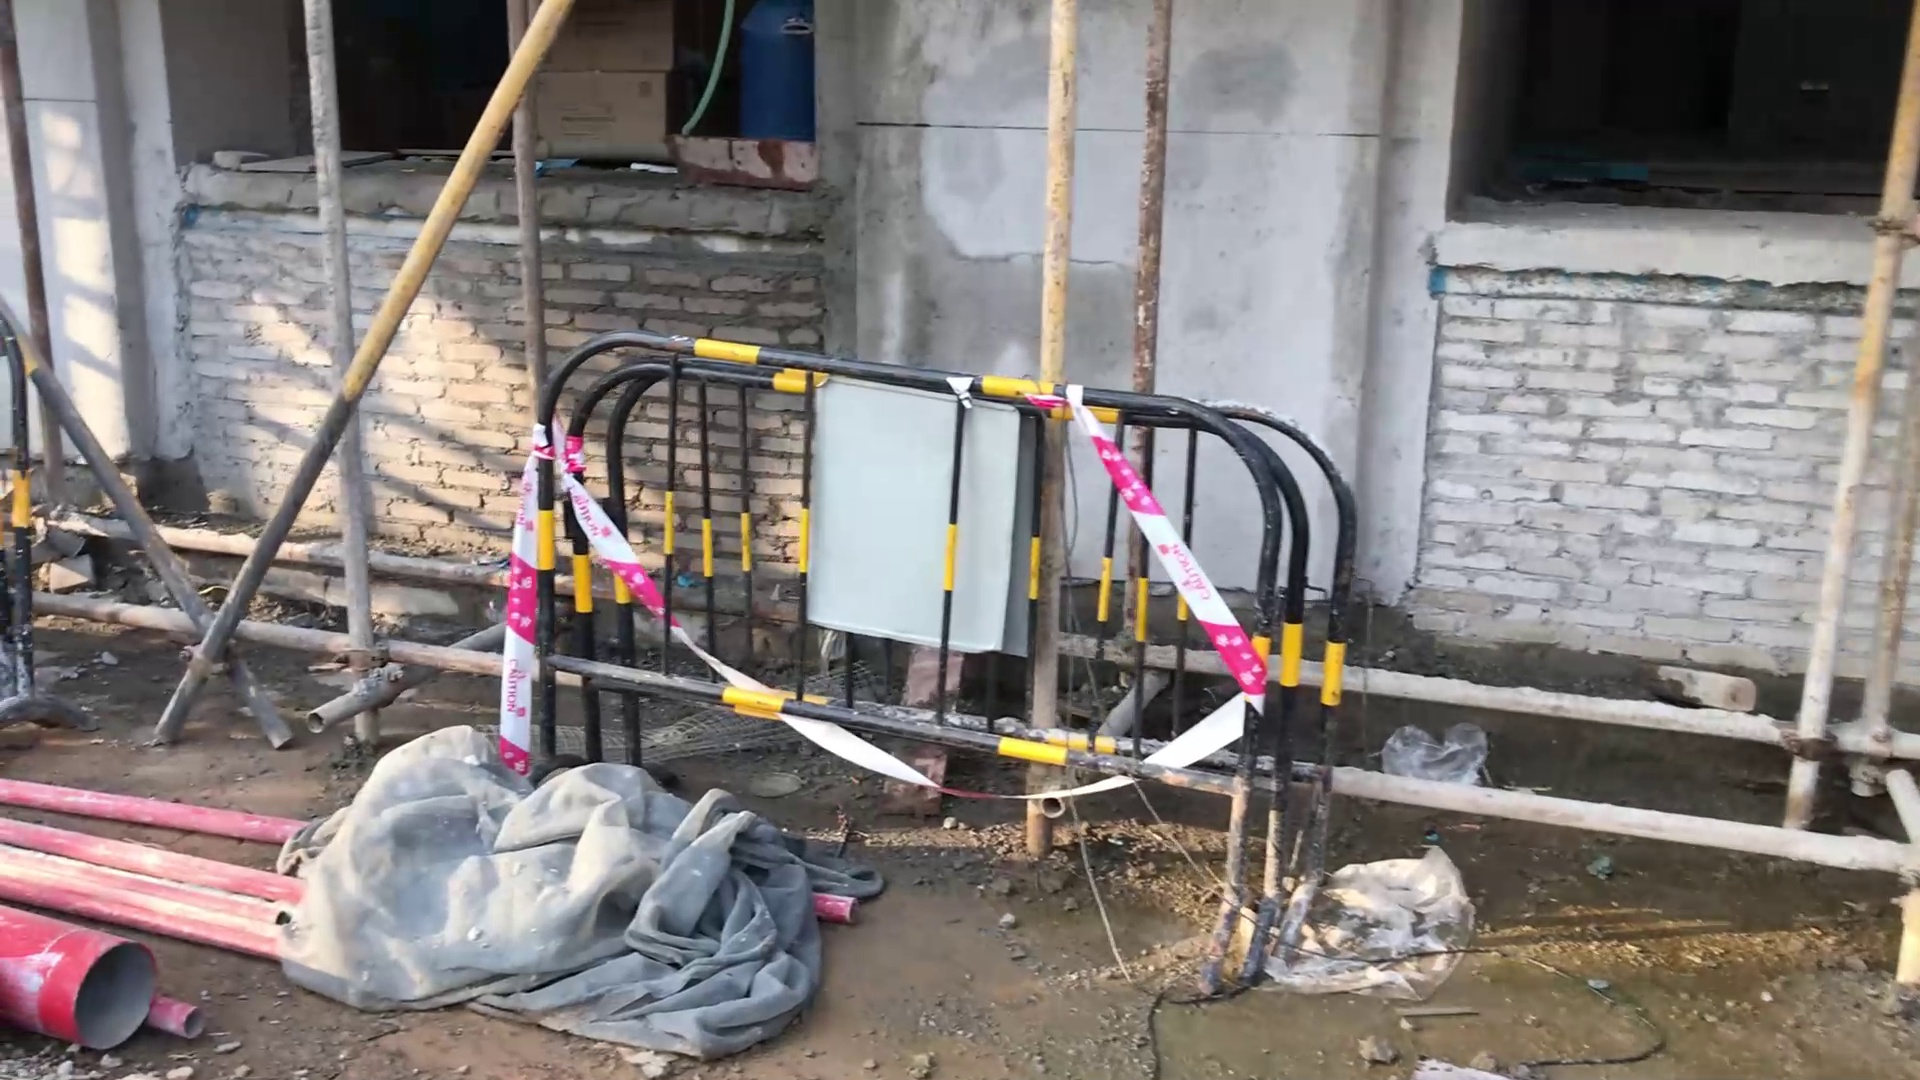fence: (512, 324, 1362, 1005)
